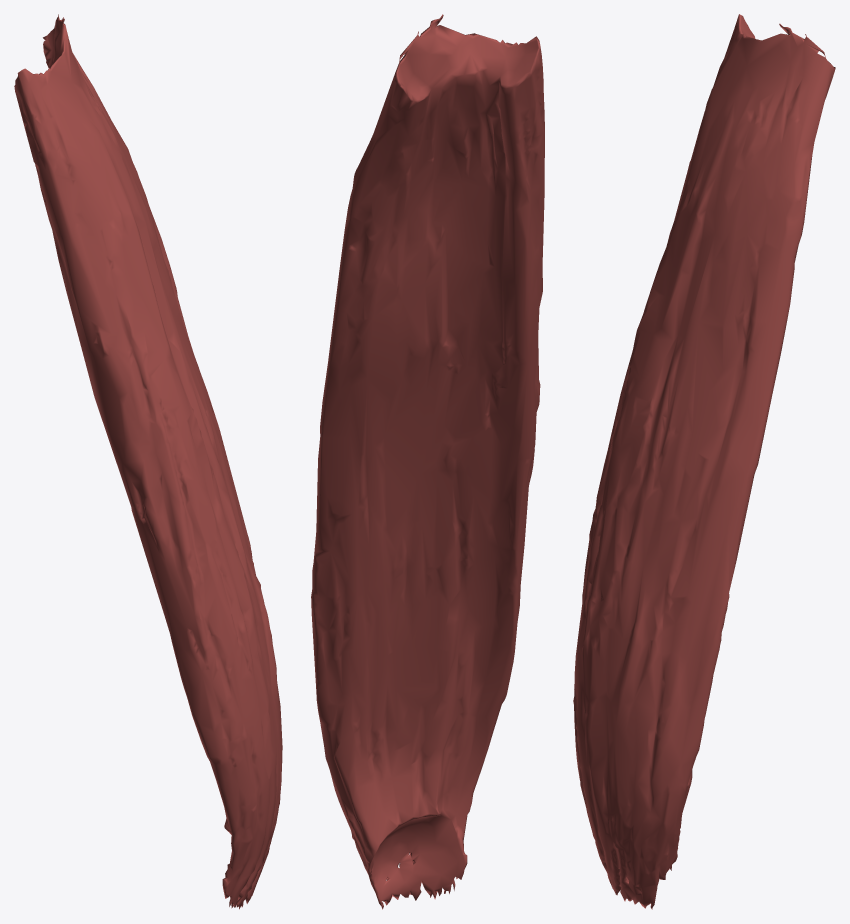
Rendered from FMA37396.glb.
The picture shows the model from 3 angles, left to right: view 1: azimuth 30°, elevation 25°; view 2: azimuth 150°, elevation 25°; view 3: azimuth 270°, elevation 25°; orthographic projection. The views are drawn at different scales.
Parts seen in each view (by area): view 1: FMA37396; view 2: FMA37396; view 3: FMA37396.
Part boxes in pixels (box(x1,y1,x2,y2)): FMA37396: box(14, 14, 282, 909); FMA37396: box(311, 14, 544, 909); FMA37396: box(573, 14, 835, 909).
Bounding box in the file's own units: 0.0176 × 0.0651 × 0.0187.
